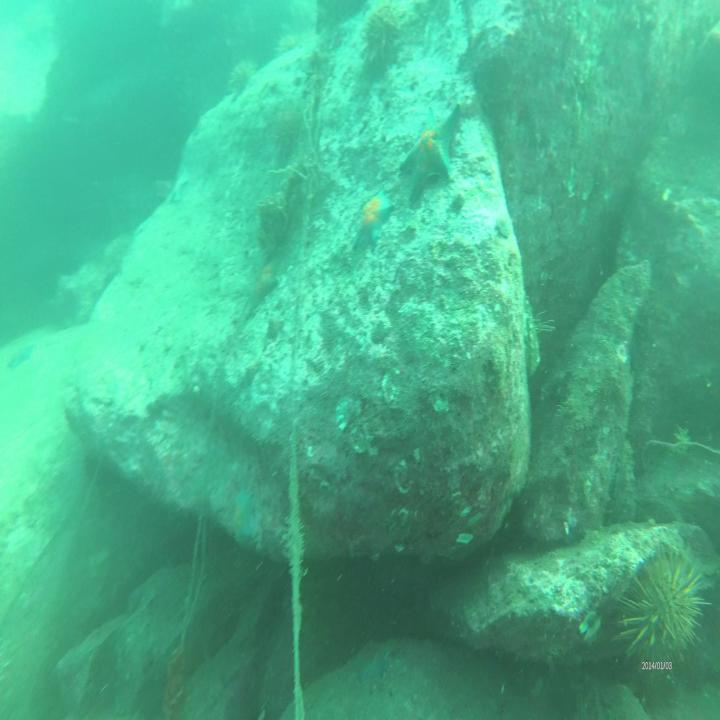echinus: (616, 550, 708, 681), (359, 3, 408, 79), (266, 103, 302, 161), (226, 59, 256, 95), (272, 28, 301, 59)
starfish: (399, 103, 461, 211), (240, 243, 282, 316), (351, 184, 394, 252), (6, 333, 34, 374)
